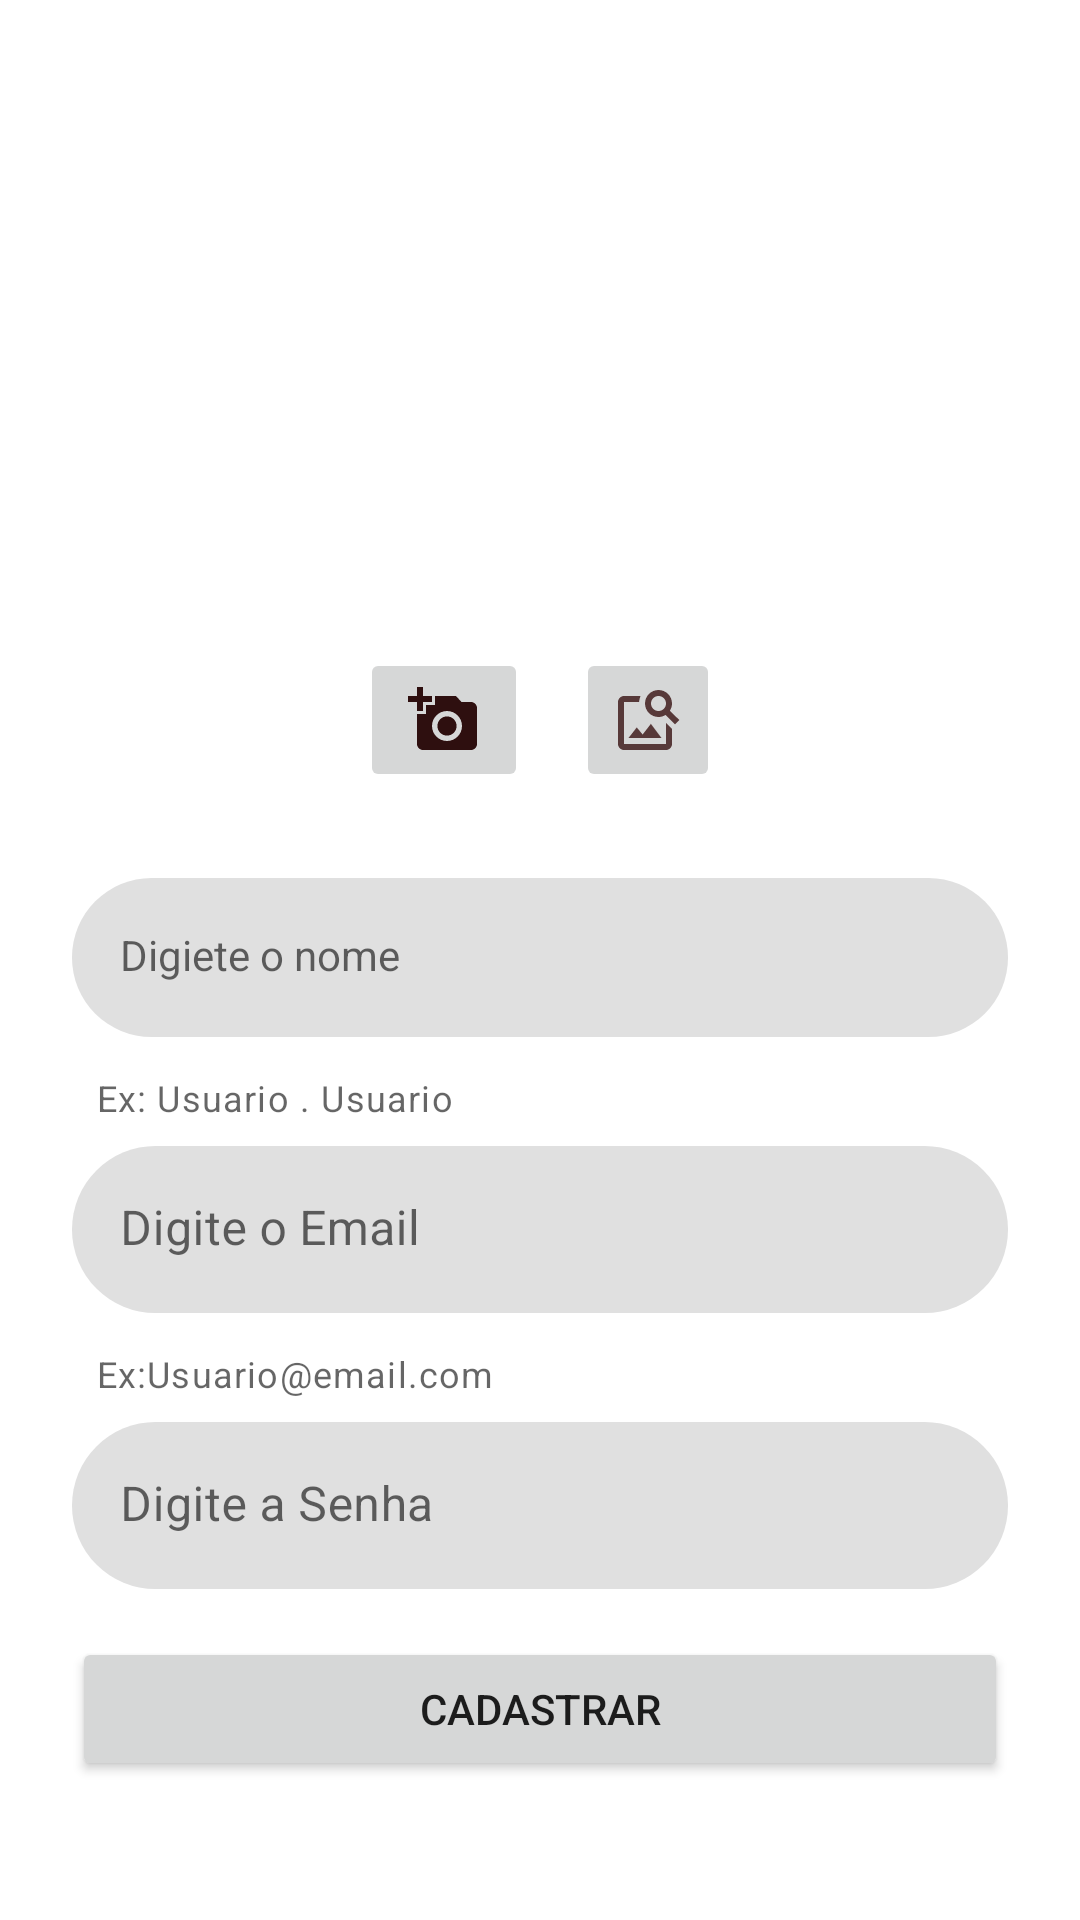

Named icons in this screenshot (1080px×1920px) and their bounding boxes, bbox=(x1, y1, x2, y2):
add photo: bbox=(372, 666, 516, 774)
